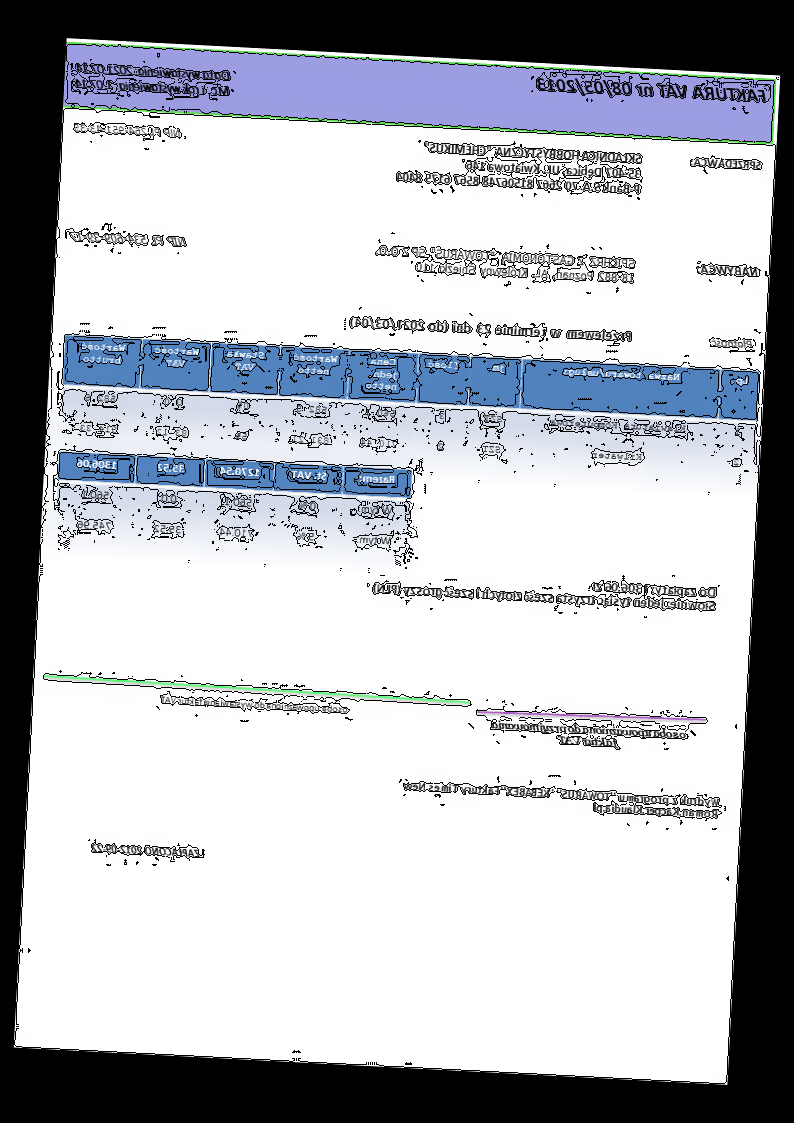Table: (59, 334, 762, 484), (53, 450, 414, 560)
TextBox: (371, 568, 718, 615), (393, 137, 645, 197), (401, 779, 722, 822), (372, 243, 638, 285), (348, 314, 634, 344), (534, 74, 770, 107), (489, 717, 688, 752), (73, 60, 234, 100), (160, 694, 350, 717), (68, 229, 188, 250), (90, 840, 203, 862), (73, 121, 183, 140), (688, 155, 764, 173), (695, 261, 760, 280), (708, 335, 755, 351)
